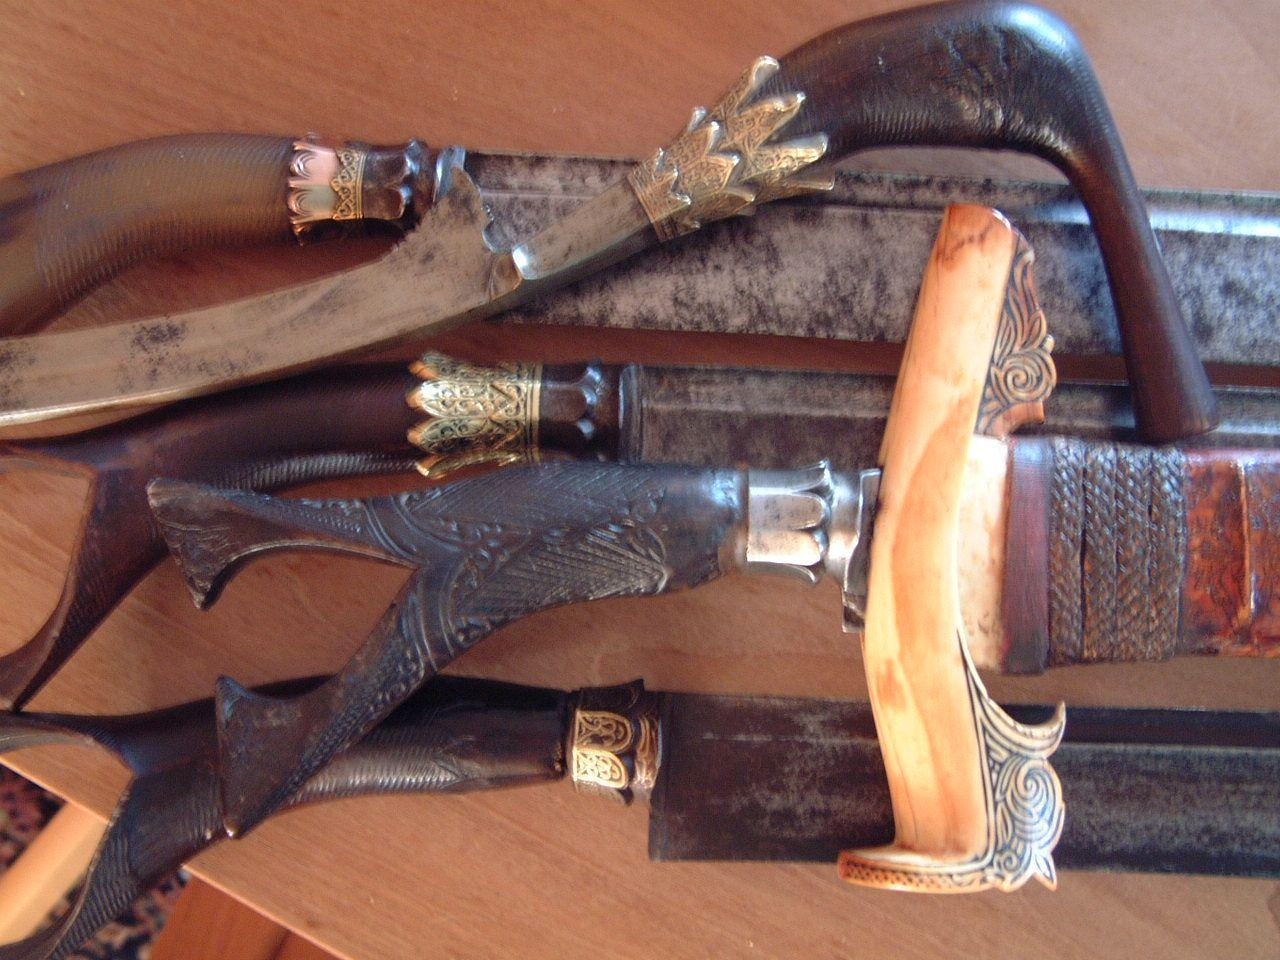facao: (0, 0, 1280, 372), (21, 264, 1280, 642), (0, 671, 1280, 921)
